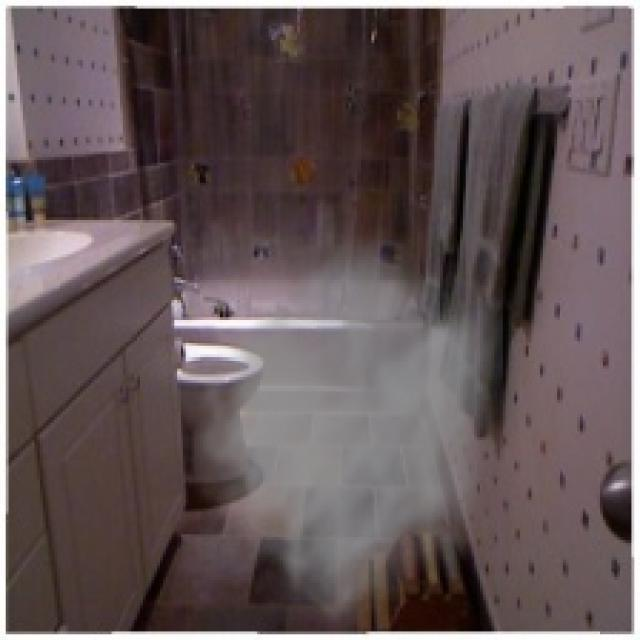Smoke: (160, 217, 506, 637)
